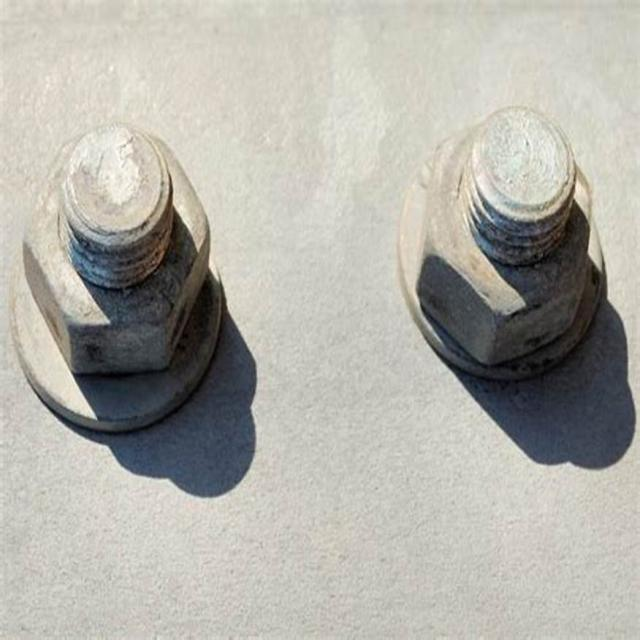bolt nut: (20, 124, 209, 378), (414, 104, 591, 368)
